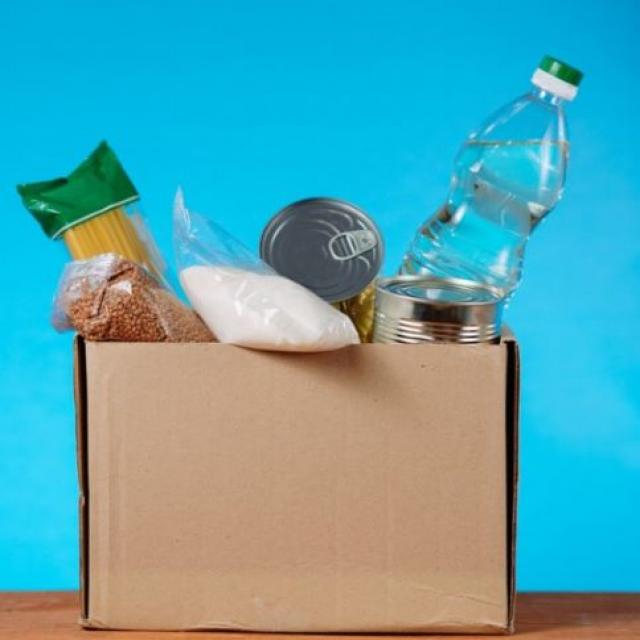metal: (259, 192, 387, 322), (374, 274, 503, 346)
paper: (78, 341, 518, 635)
plastic: (396, 50, 584, 276), (12, 136, 178, 308), (48, 249, 216, 338)
